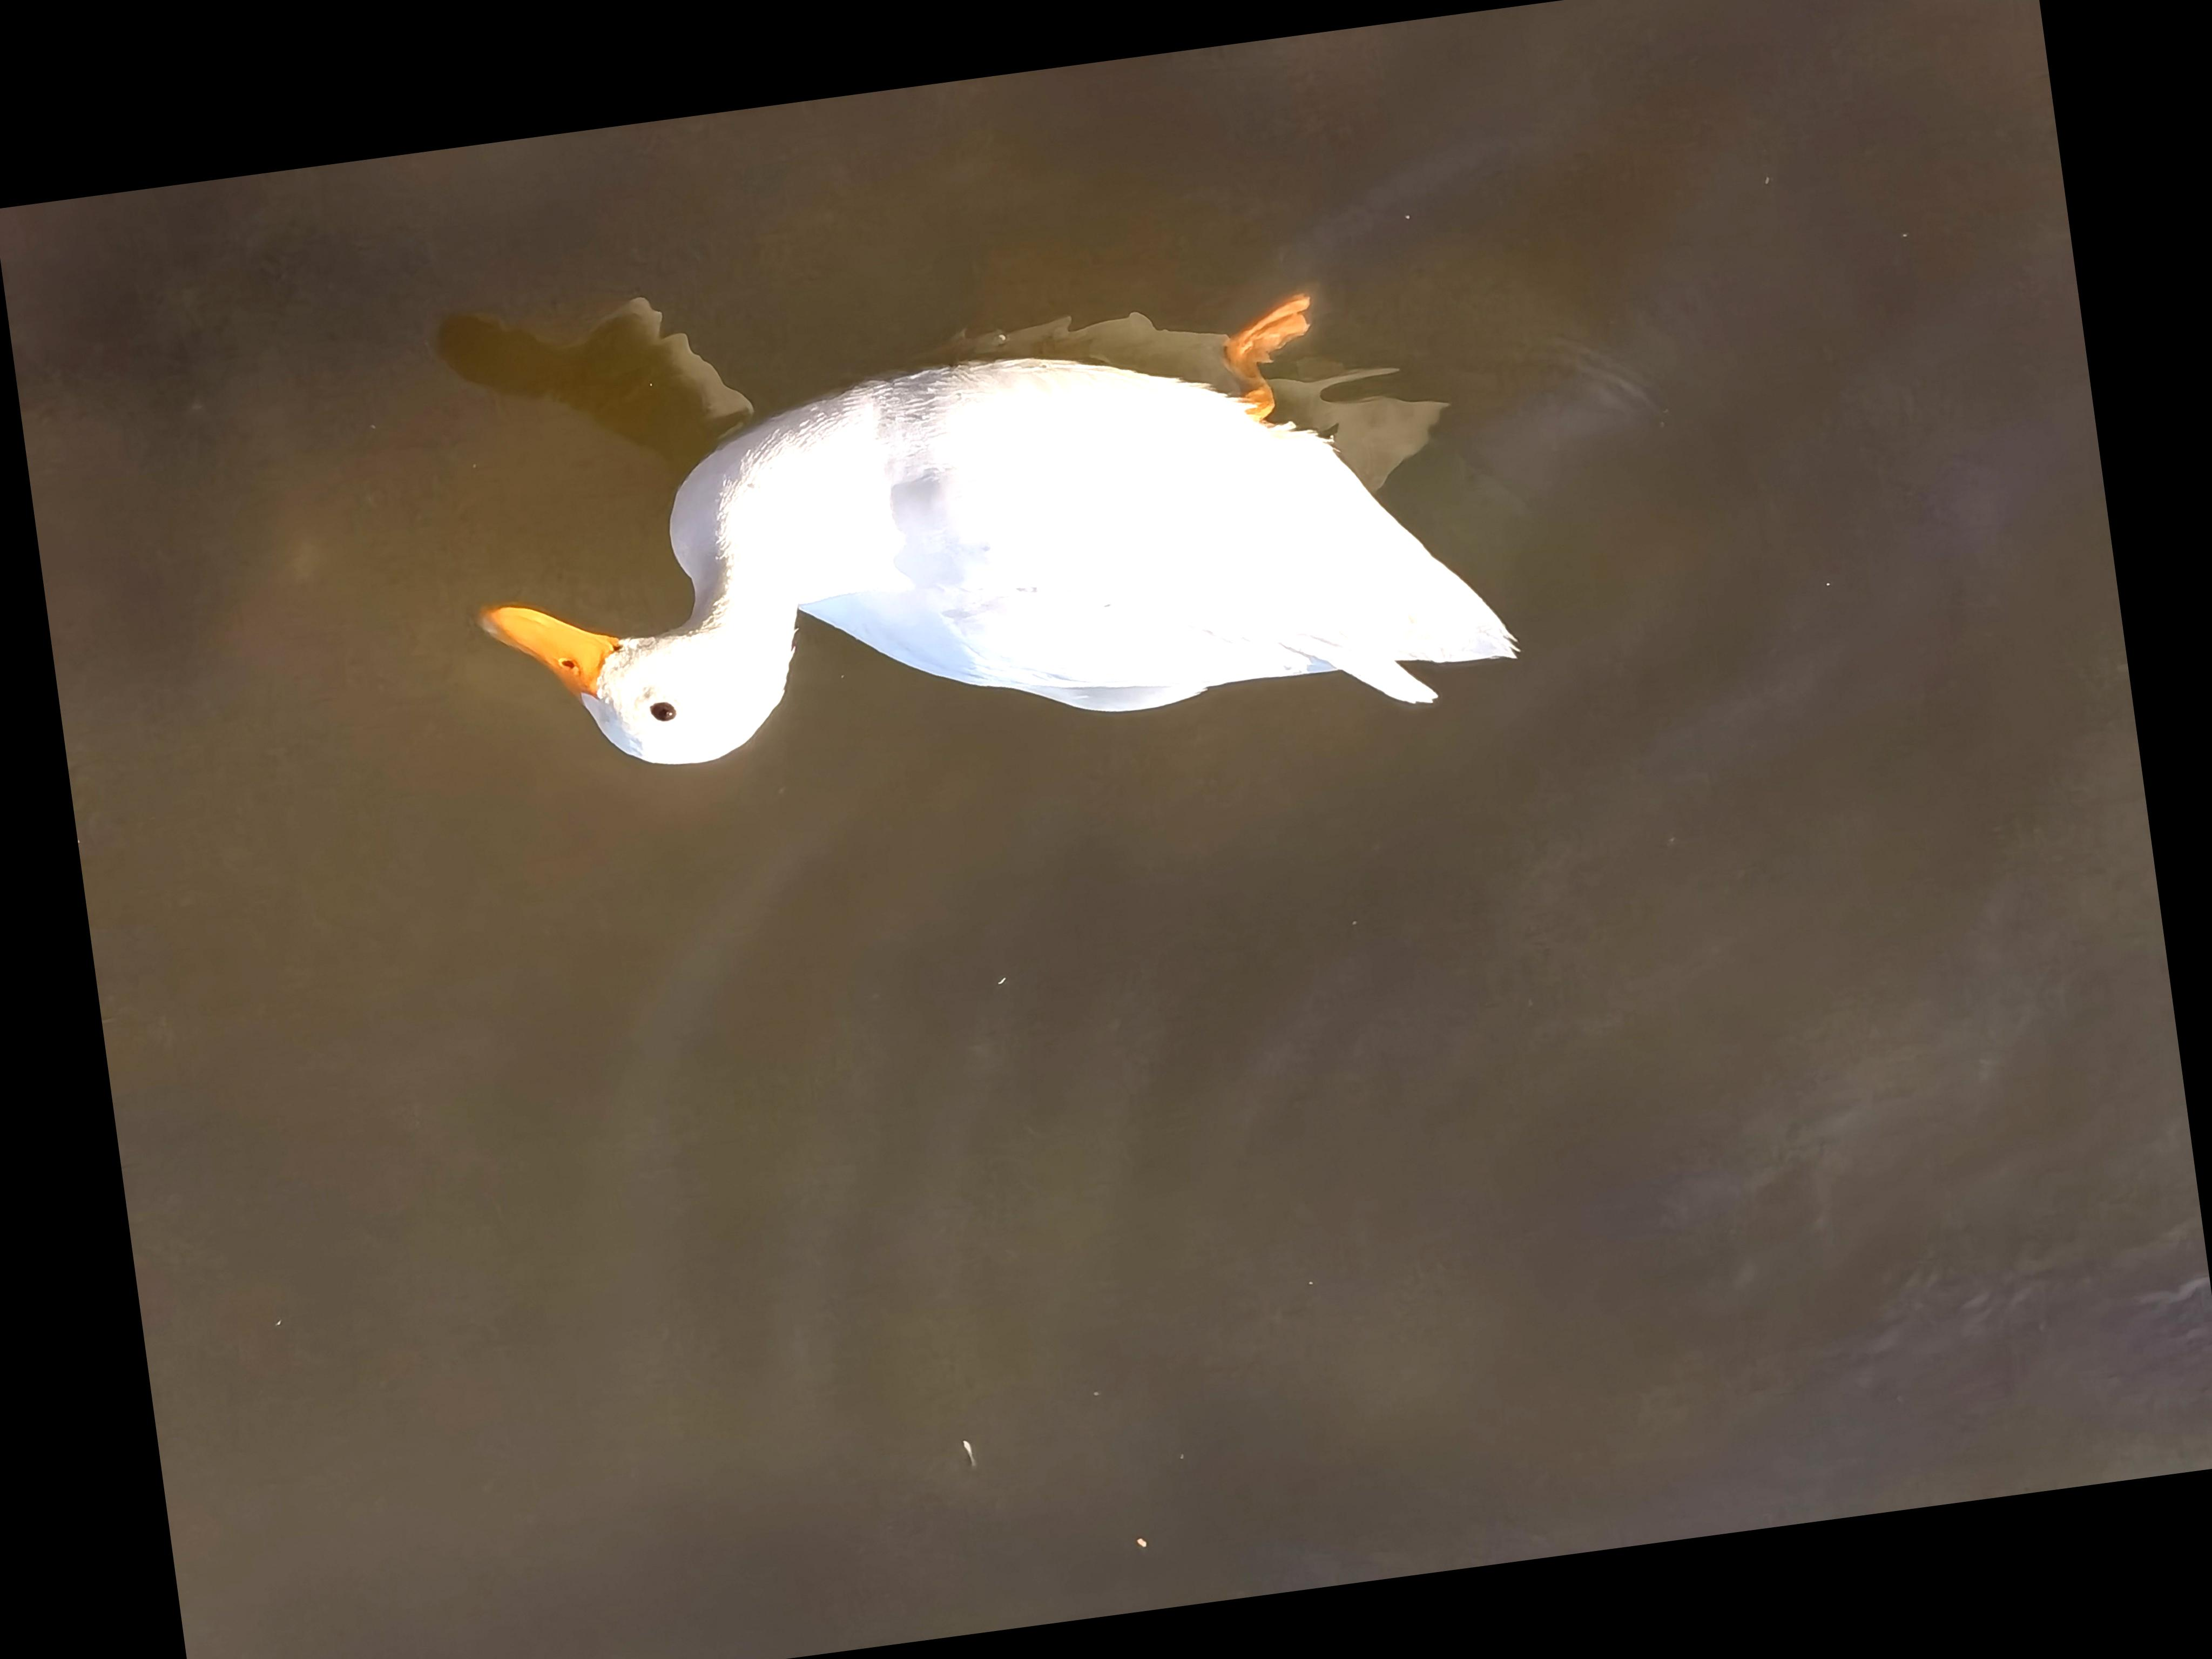duck: (421, 234, 1555, 823)
